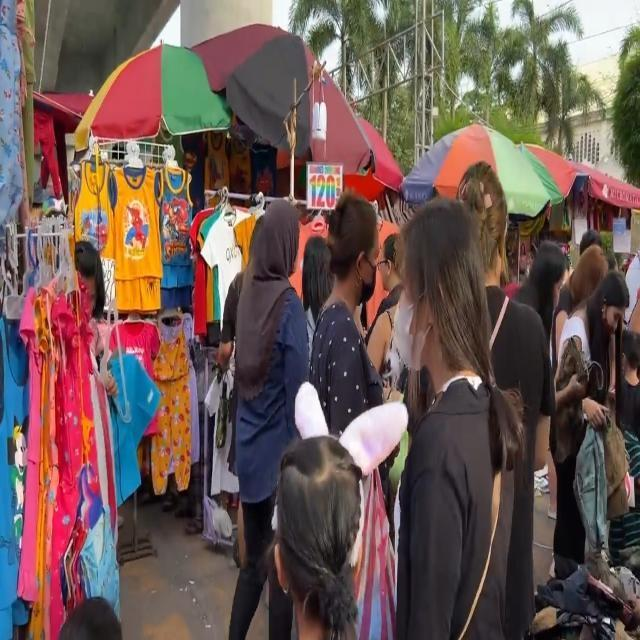hairnet: (598, 296, 620, 344)
